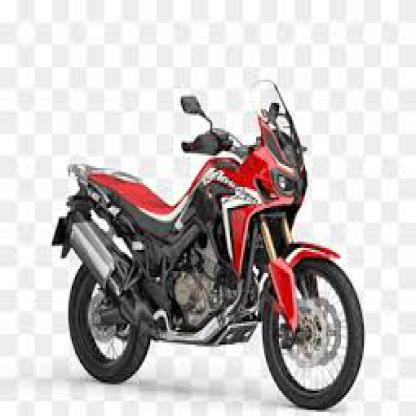Motorcycle: (46, 81, 369, 411)
